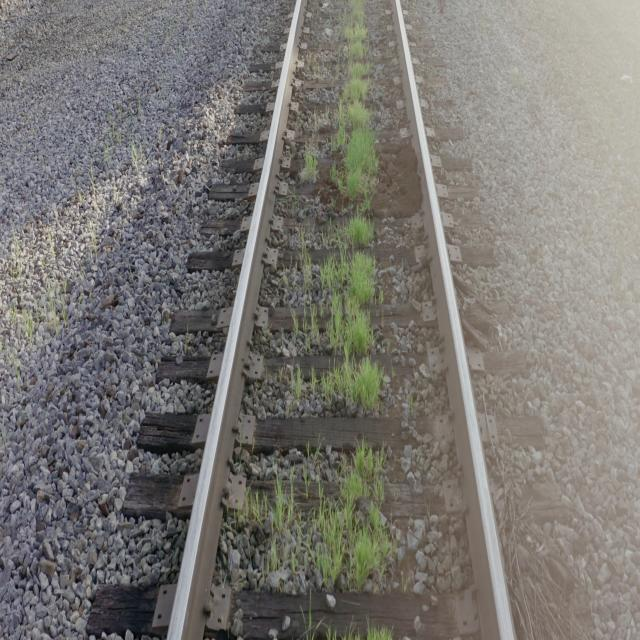Plant: (286, 0, 385, 416), (245, 442, 391, 596), (304, 304, 321, 353), (301, 242, 314, 300), (304, 144, 319, 178), (368, 627, 390, 638)
